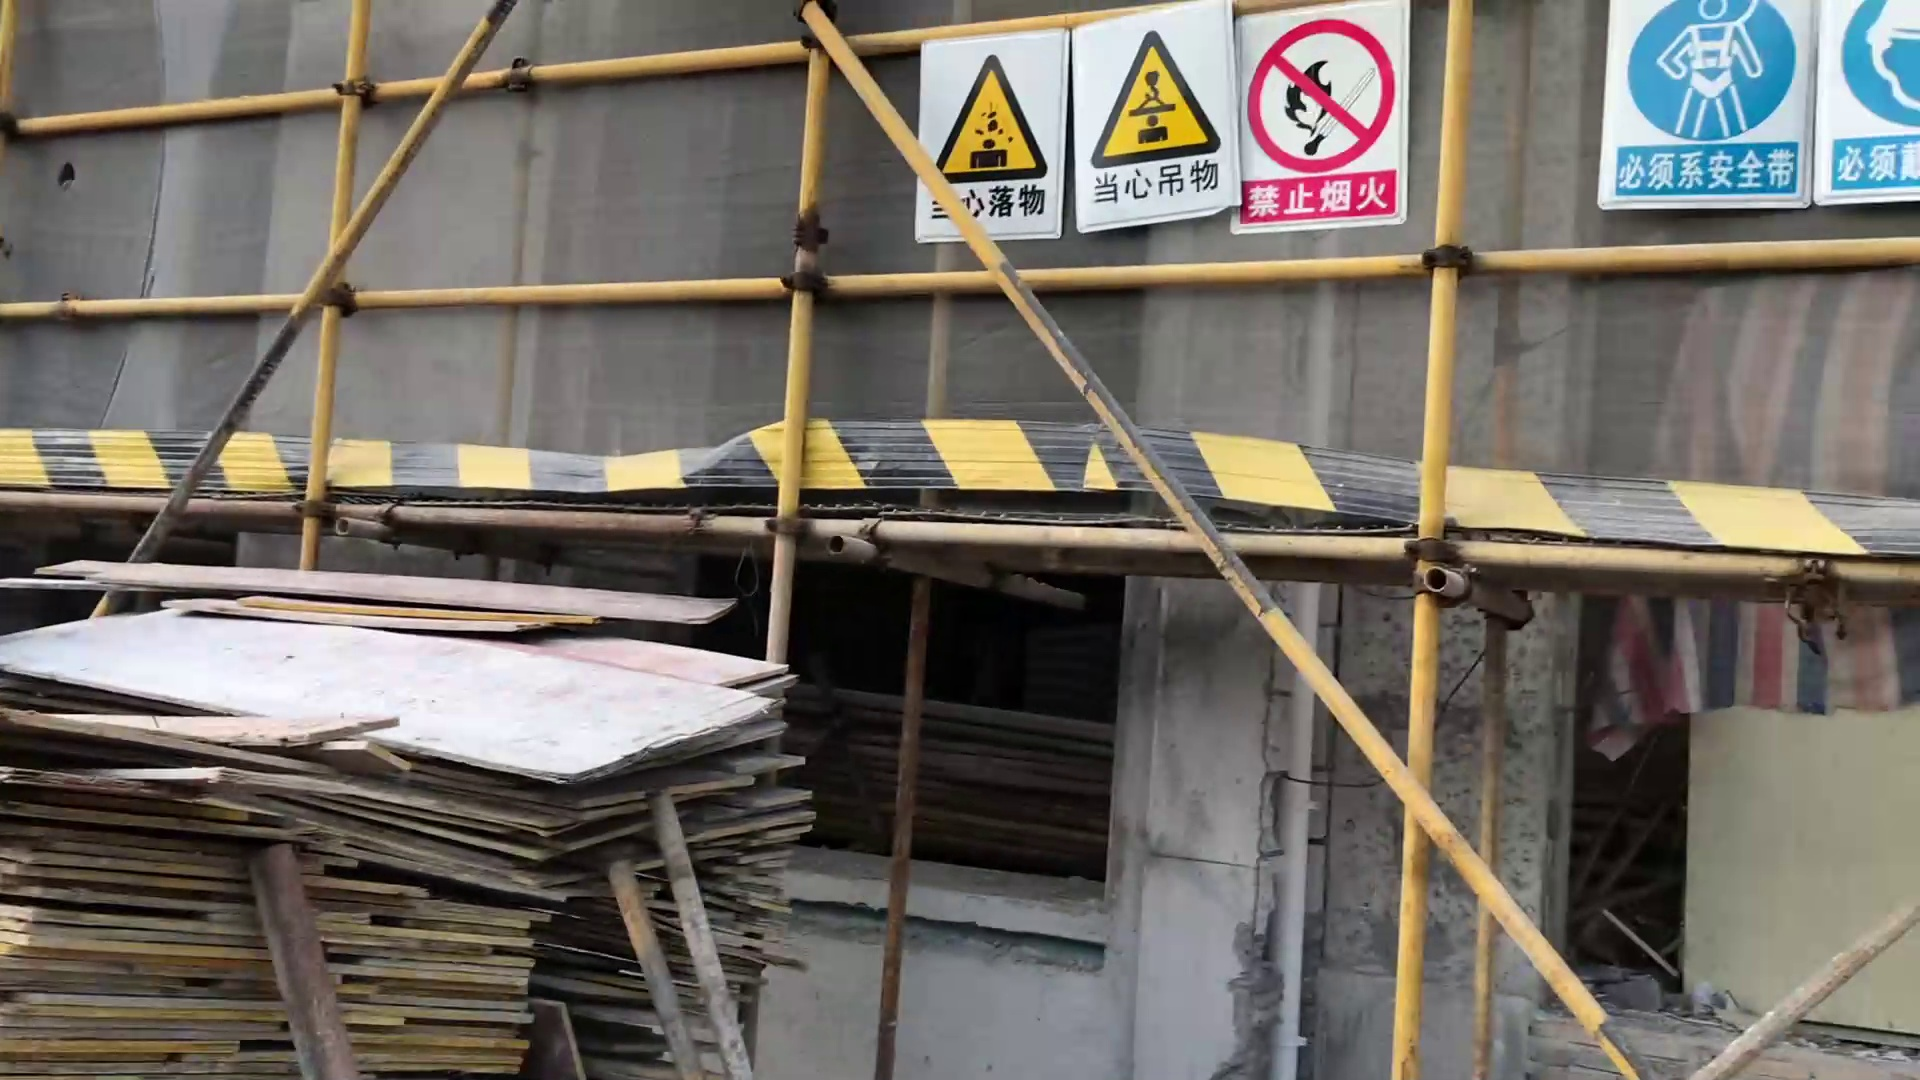board: (1, 578, 819, 1077)
slogan: (1581, 1, 1818, 228), (1224, 1, 1429, 251), (1060, 1, 1250, 258), (891, 12, 1087, 255), (1805, 1, 1917, 224)
